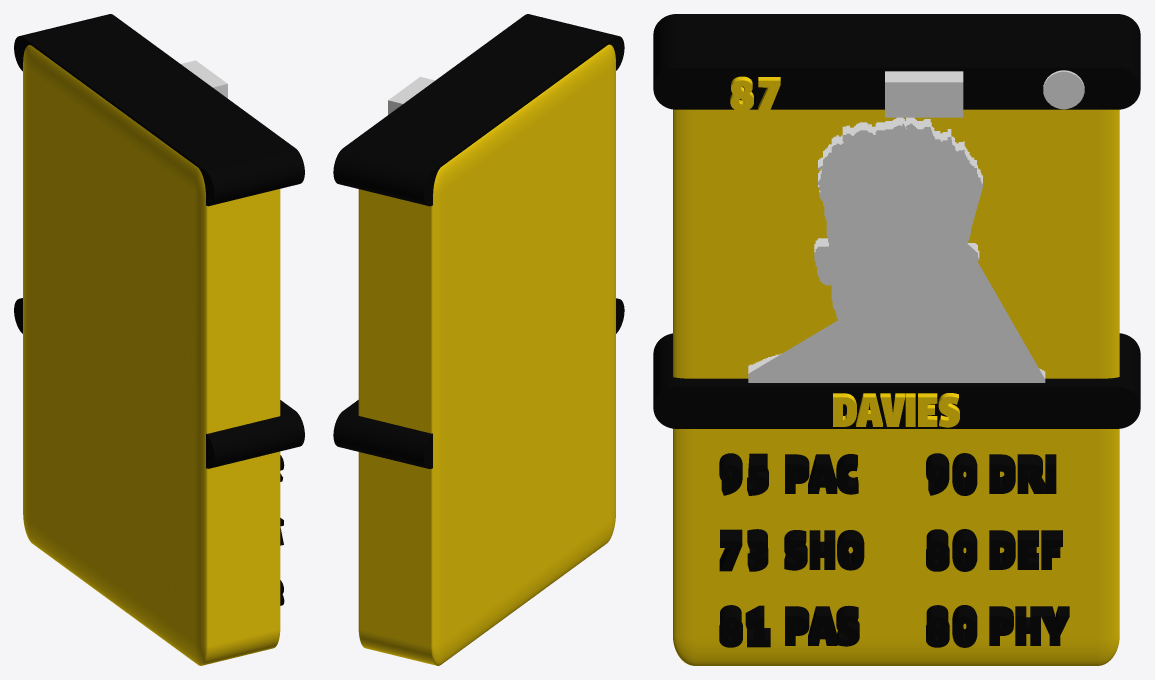
The model's file is DAVIES.fbx.
The picture shows the model from 3 angles, left to right: view 1: azimuth 30°, elevation 25°; view 2: azimuth 150°, elevation 25°; view 3: azimuth 270°, elevation 25°; orthographic projection. The views are drawn at different scales.
Parts seen in each view (by area): view 1: Куб, Цилиндр.002, Цилиндр.001, Куб.001; view 2: Куб, Цилиндр.002, Цилиндр.001, Куб.001; view 3: Куб, Плоскость, Цилиндр.002, Цилиндр.001, Куб.001, Текст.006, Текст, Текст.002, Текст.005, Текст.004, Текст.001, Текст.003 (+8 smaller).
Part boxes in pixels (x1,y1,x2,y2): Куб: (23, 45, 280, 665); Цилиндр.002: (14, 14, 304, 206); Цилиндр.001: (14, 298, 304, 468); Куб.001: (181, 60, 227, 98); Куб: (358, 44, 615, 665); Цилиндр.002: (333, 14, 624, 206); Цилиндр.001: (333, 298, 624, 468); Куб.001: (388, 76, 435, 114); Куб: (673, 109, 1119, 665); Плоскость: (748, 117, 1045, 382); Цилиндр.002: (653, 14, 1140, 109); Цилиндр.001: (653, 333, 1140, 428); Куб.001: (885, 71, 963, 117); Текст.006: (833, 393, 959, 427); Текст: (784, 530, 864, 570); Текст.002: (785, 605, 859, 646); Текст.005: (989, 606, 1069, 645); Текст.004: (989, 530, 1062, 569); Текст.001: (785, 454, 858, 494); Текст.003: (989, 454, 1056, 493).
Size of the model in its own units: 300 by 1202 by 872.
